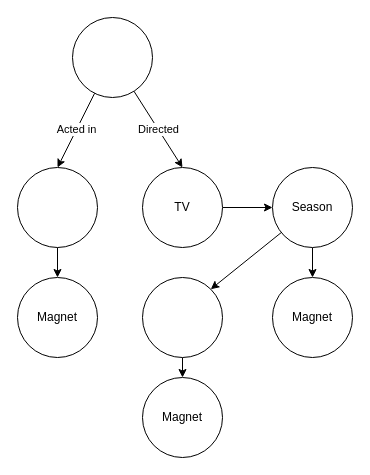
Some shapes in this 370 by 475 pixel diagram are drawn without their labels. Here are the shapes that lost their labels. From the top down, the centre of each, then its label:
At point (112, 57): "Person".
At point (57, 207): "Movie".
At point (182, 317): "Episode".
